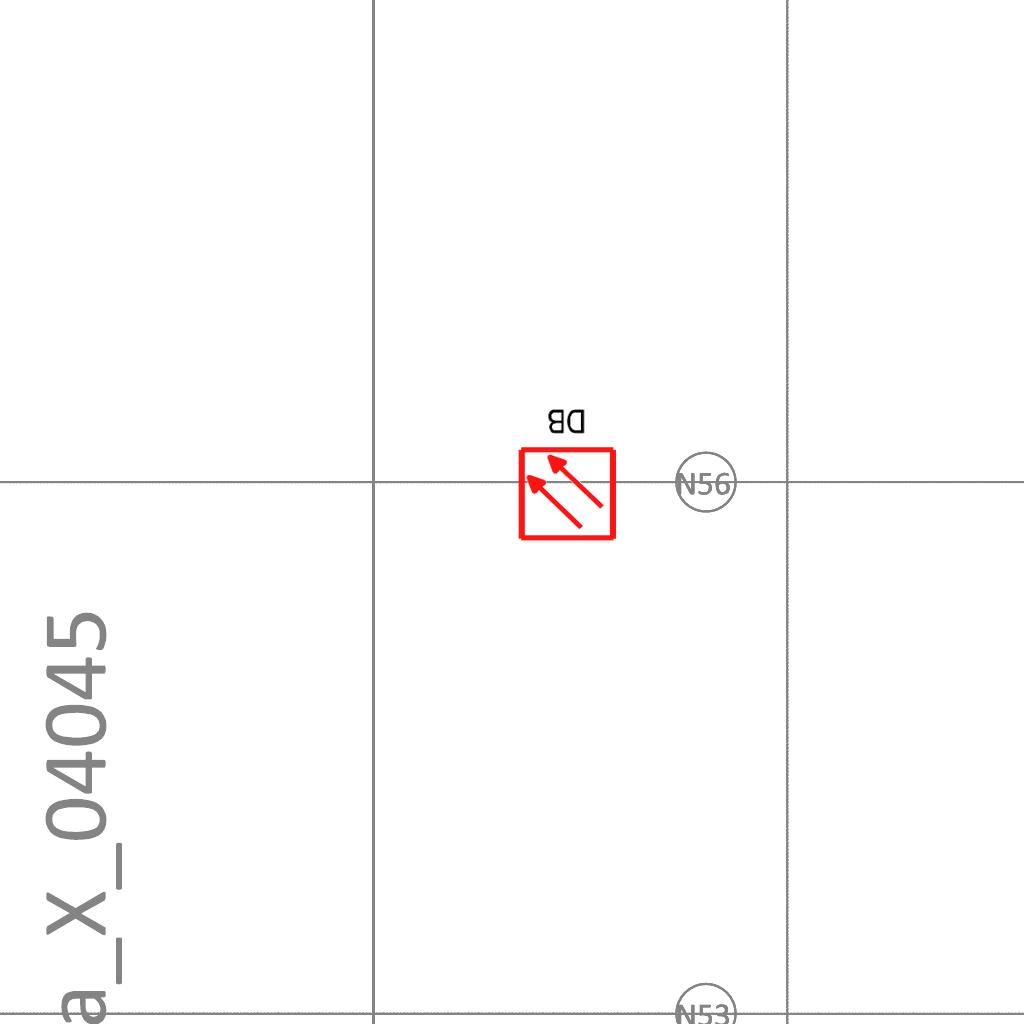DB_Melder_in_Doppelboden_mit_Revisionsoeffnung_mind_40_x_40_cm: (509, 399, 623, 548)
